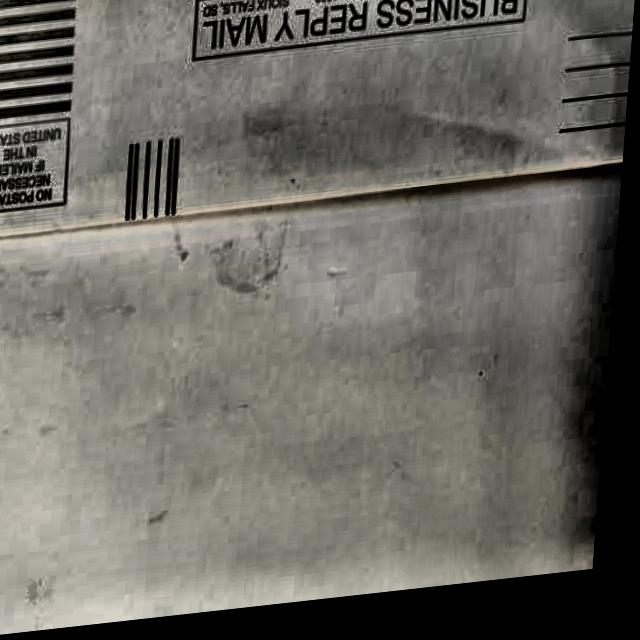Paper: (0, 0, 640, 268)
